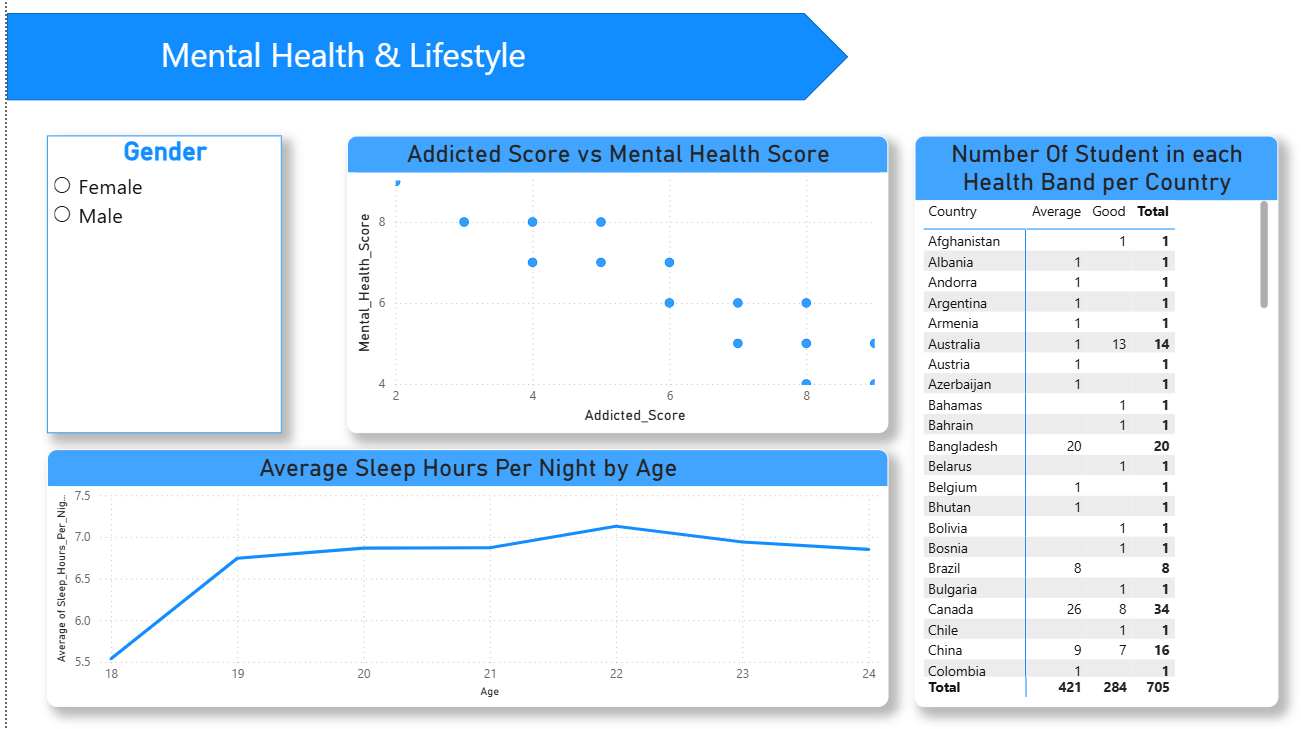

What the dashboard file says about the page in this screenshot:
{"tool":"powerbi","page":{"name":"Mental Health & Lifestyle","canvas":[1280,720],"ordinal":1},"visuals":[{"type":"pivotTable","title":"Number Of Student in each Health Band per Country","fields":{"Rows":["Student Details.Country"],"Columns":["Student Details.Health Band"],"Values":["Student Details.Total Students"]},"box":[887.8,139.4,355.8,558.8],"z":0},{"type":"scatterChart","title":"Addicted Score vs Mental Health Score","fields":{"X":["Student Details.Addicted_Score"],"Y":["Student Details.Mental_Health_Score"]},"box":[332.6,139.4,529.5,291],"z":1000},{"type":"lineChart","title":"Average Sleep Hours Per Night by Age","fields":{"Y":["Avg(Student Details.Sleep_Hours_Per_Night)"],"Category":["Student Details.Age"]},"box":[39.1,446.3,823,251.9],"z":2000},{"type":"shape","box":[0,19.6,823,85.6],"z":2001},{"type":"textbox","box":[145.5,33,610.2,72.1],"z":2002},{"type":"listSlicer","fields":{"Values":["Student Details.Gender"]},"box":[39.1,139.4,229.9,291],"z":2003}]}

Visuals, with their boxes in screenshot pixels (x1, y1, x2, y2), scaled from the page's 1280x720 canvas onto the 1301x729 screenshot:
"Number Of Student in each Health Band per Country" pivotTable: (902,141,1264,707)
"Addicted Score vs Mental Health Score" scatterChart: (338,141,876,436)
"Average Sleep Hours Per Night by Age" lineChart: (40,452,876,707)
shape: (0,20,837,107)
textbox: (148,33,768,106)
listSlicer - Student Details.Gender: (40,141,273,436)
